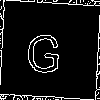G: (24, 25, 63, 74)
